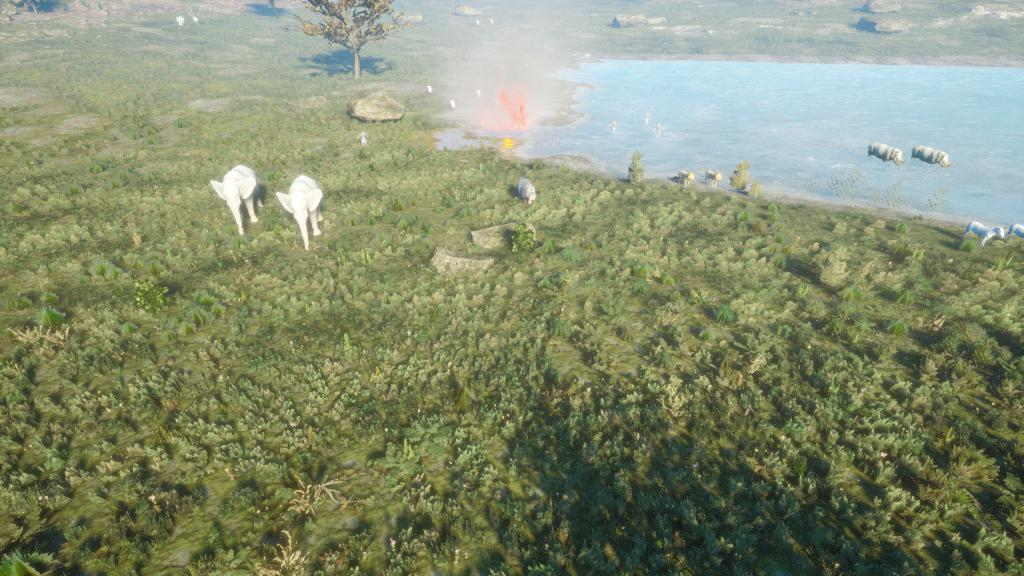Fire: (473, 77, 540, 136)
elephant: (205, 161, 275, 239), (273, 170, 332, 254)
hippopotamus: (502, 171, 554, 212)
human: (347, 126, 380, 156)
rhinoceros: (858, 133, 913, 176), (906, 141, 963, 176)
smoke: (452, 5, 582, 141)
zebra: (958, 215, 1010, 251)
